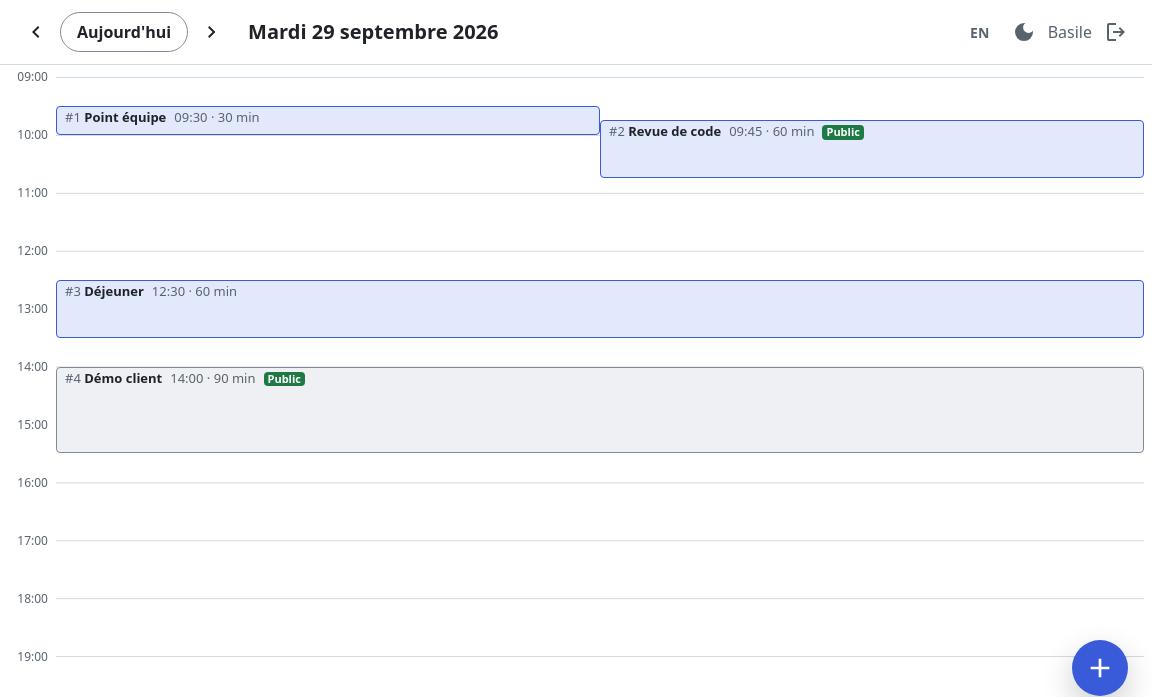
it: edit › when the server refuses, the event comes back as it was
The width and height of the screenshot is (1152, 697).
Expected: the heading "mardi 29 septembre 2026" is shown, [248,20,498,44]
Click the button "#3 Déjeuner 12:30 · 60 min" at (114, 291), box [56,280,1144,338]
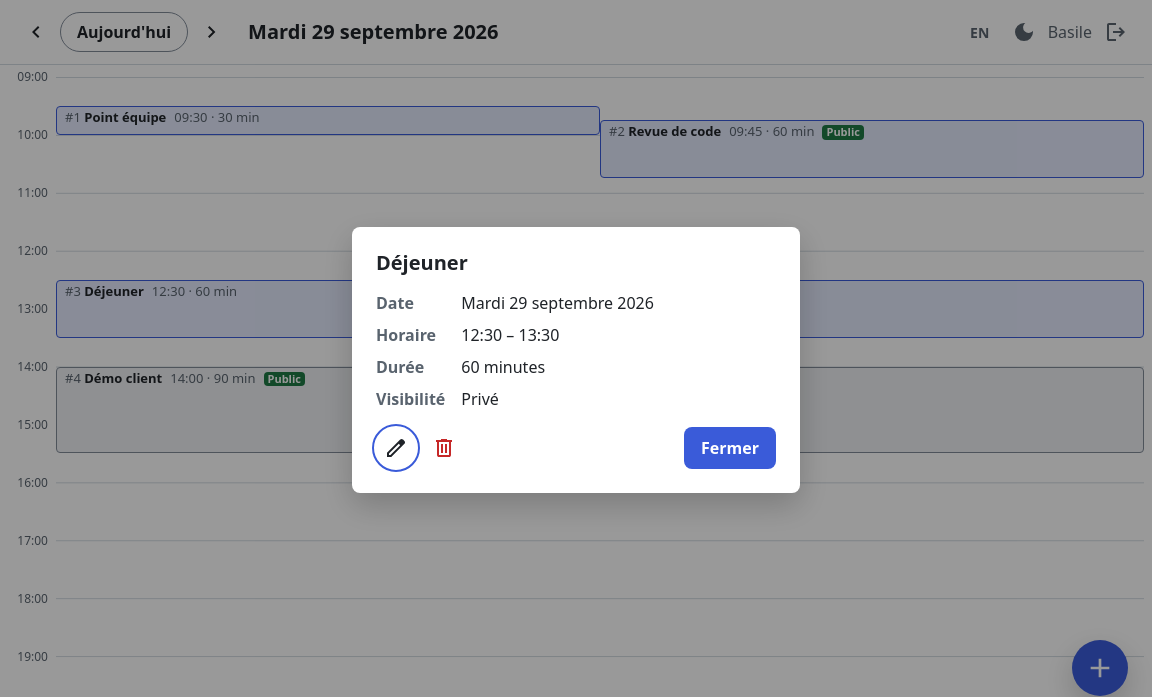
Click the button named "Modifier" at (396, 448), box [376,428,416,468]
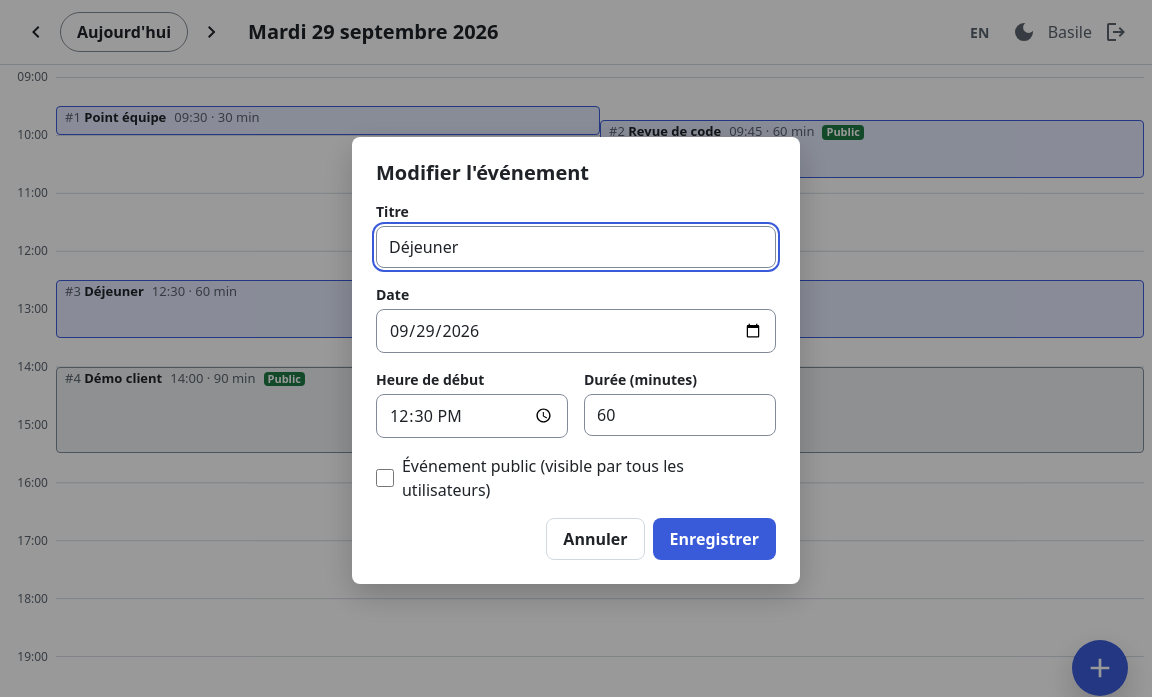
Replace the text in the field labelled "Titre" with "Perdu" at (576, 246), box [376,226,776,268]
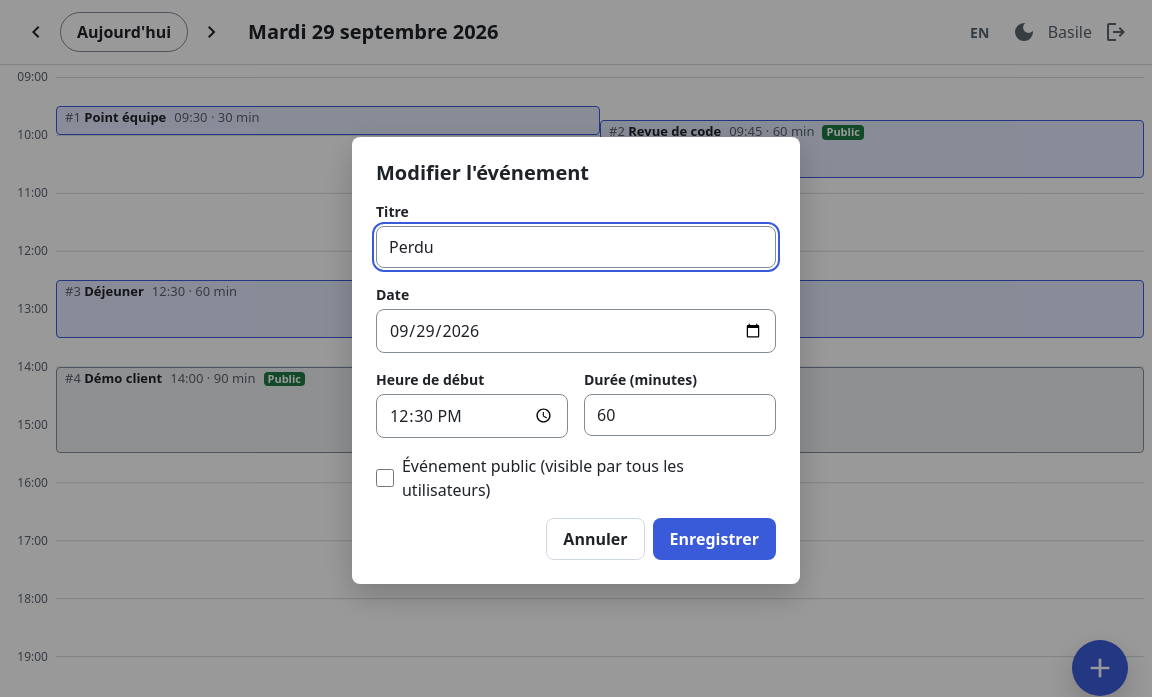
Click the button "Enregistrer" at (714, 538), box [652,518,776,560]
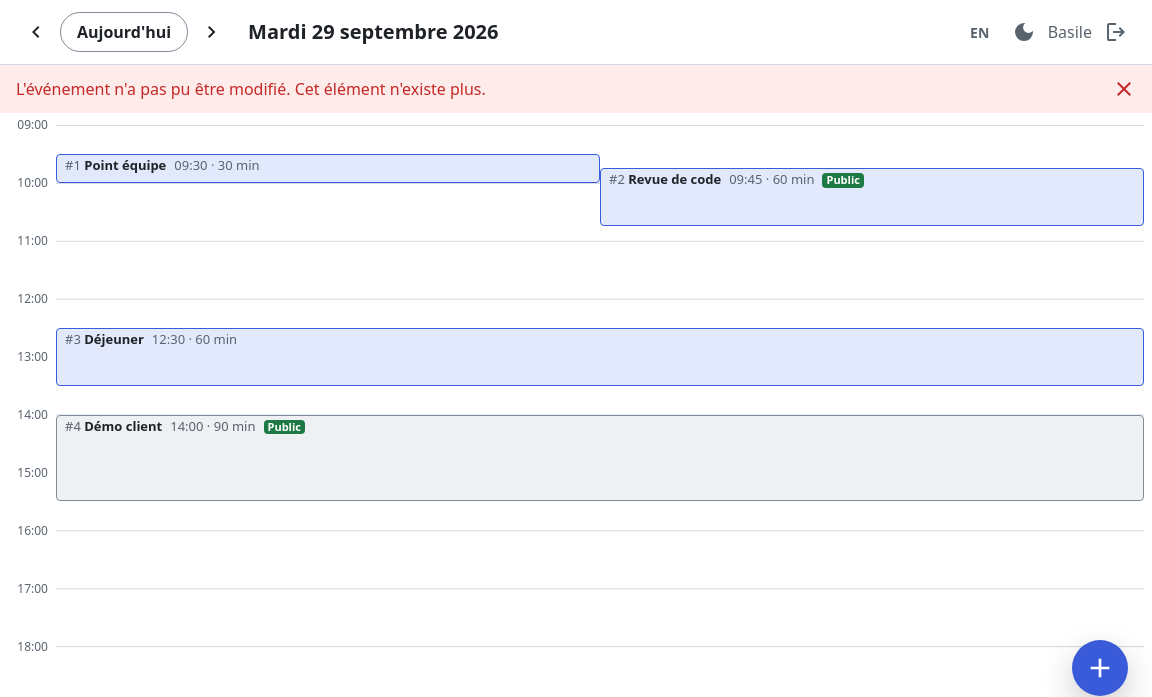
Expected: the message reads "L'événement n'a pas pu être modifié. Cet élément n'existe plus.", [16,78,486,100]
